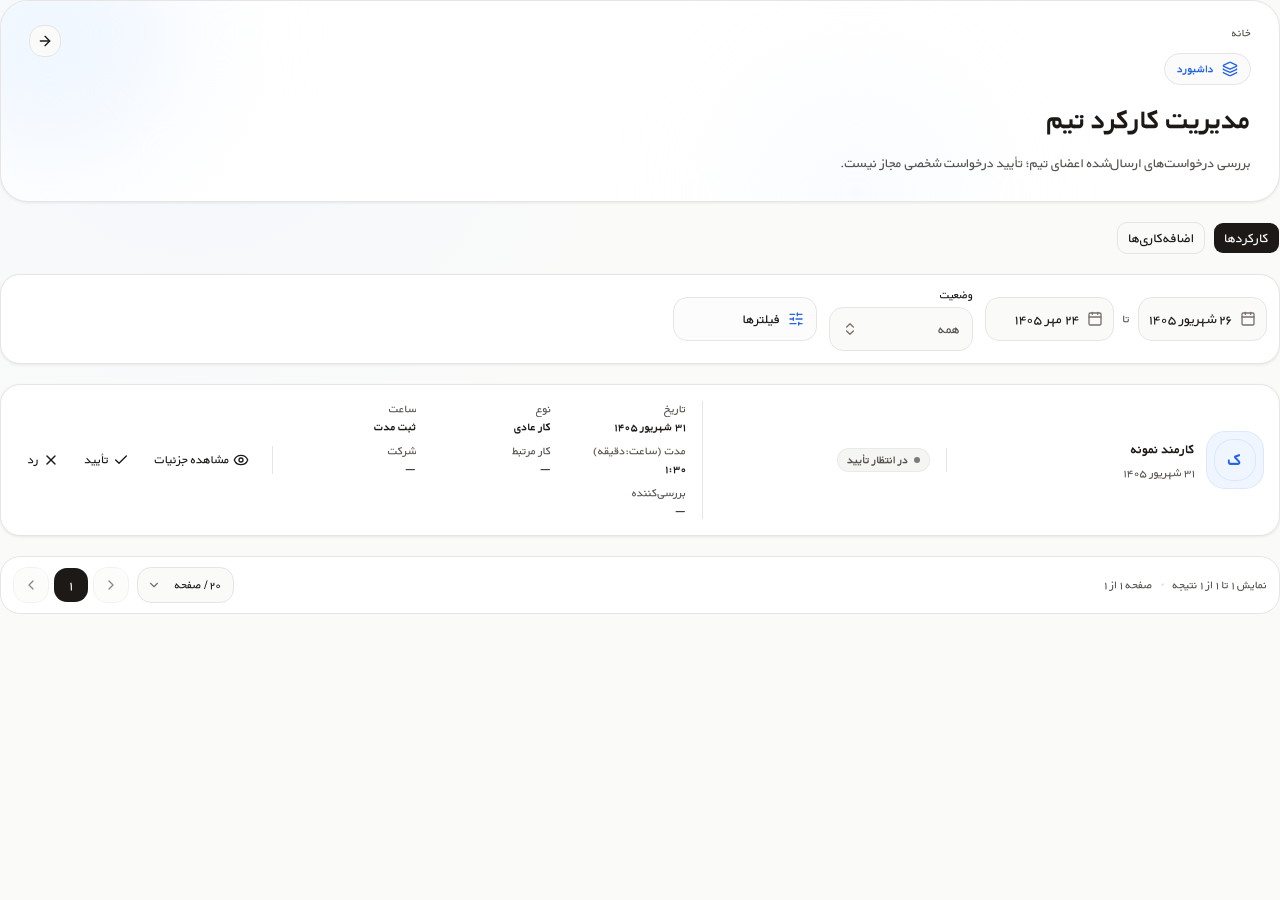
Test: Timesheet screens › requires rejection reason and refreshes after concurrent decision
Click the button "رد" at (43,460), box [17,446,70,474]
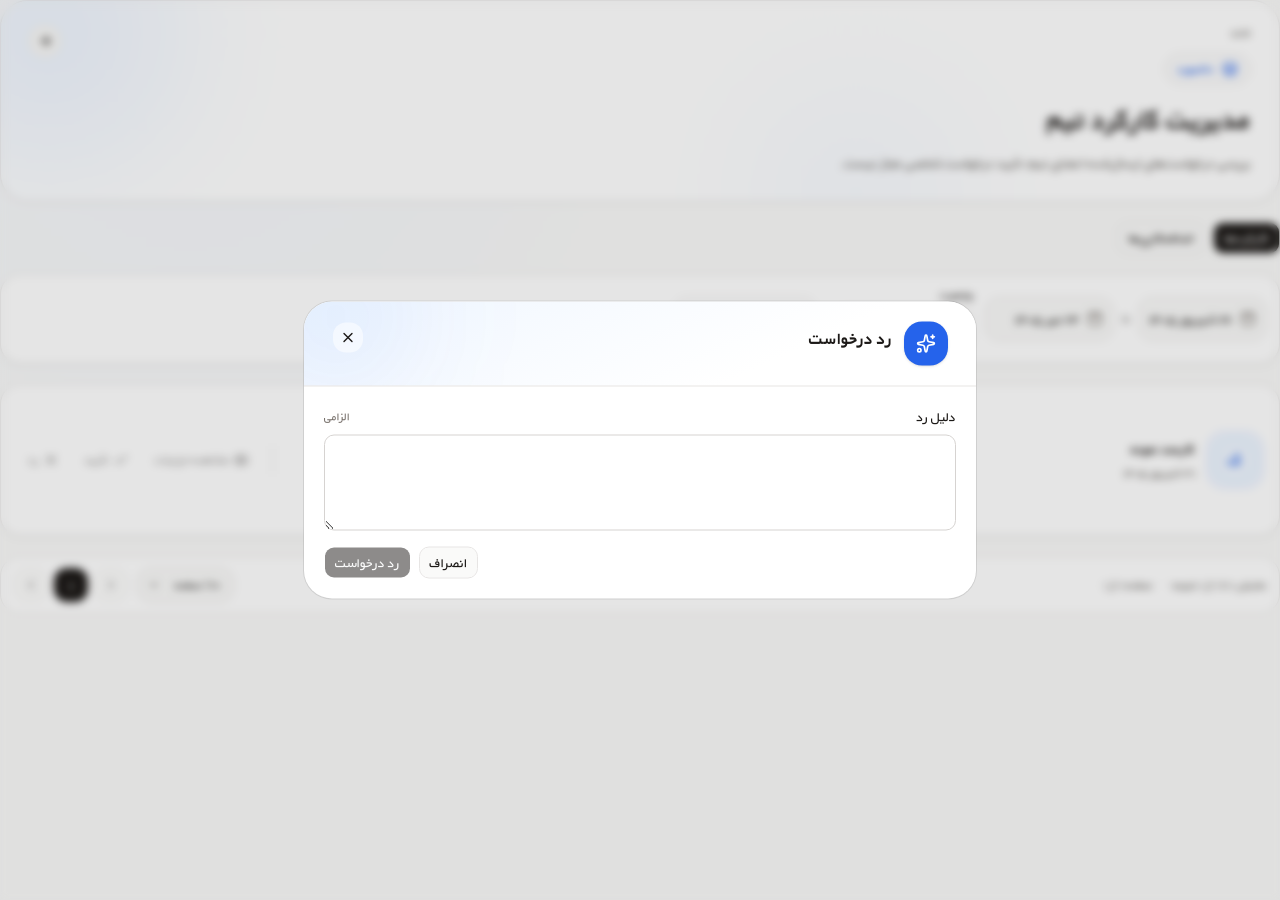
Check: the button "رد درخواست" is disabled, box [324,546,411,578]
Type "نیاز به اصلاح" into the text box labelled "دلیل رد" at (640,482), box [324,434,956,530]
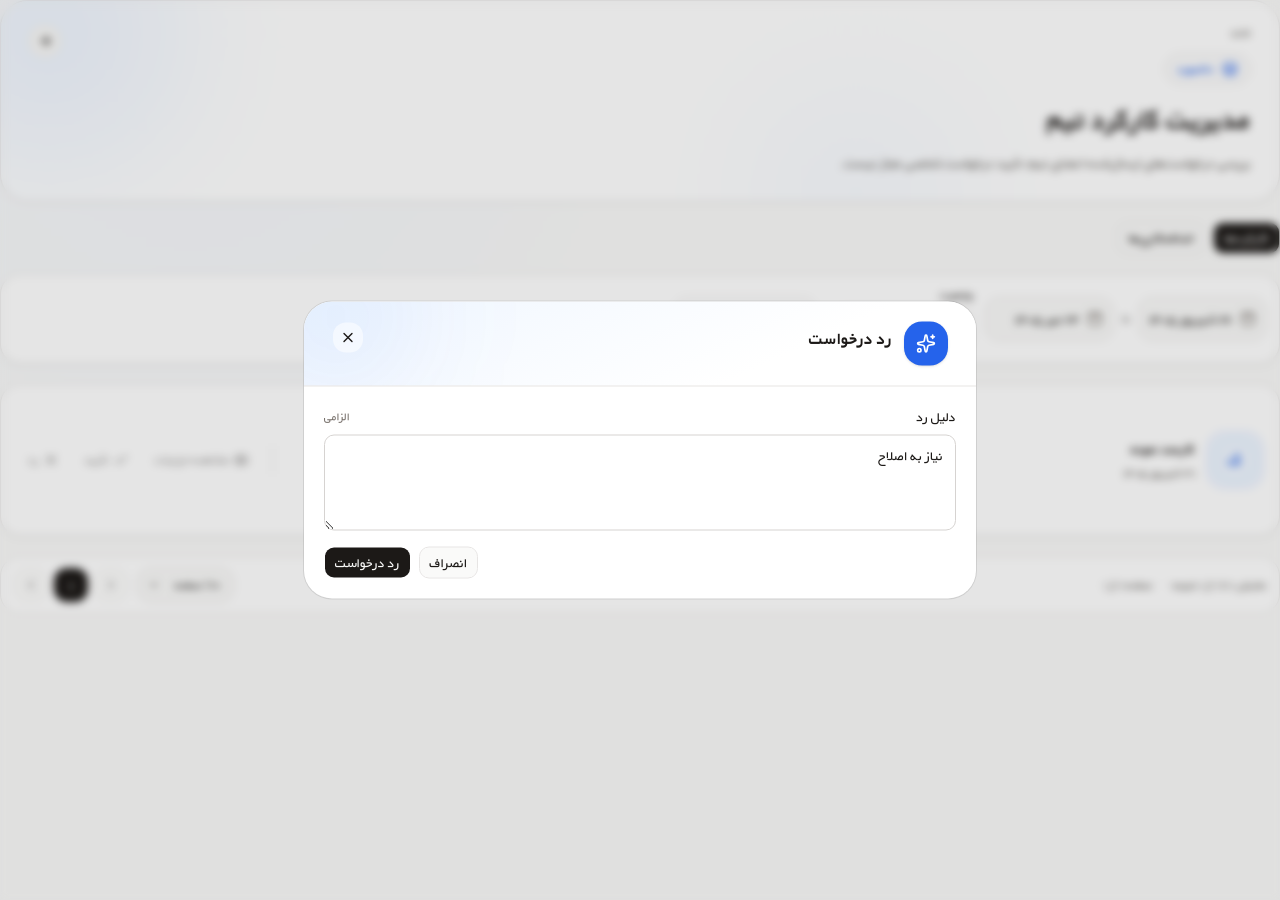
Click the button "رد درخواست" at (367,562), box [324,546,411,578]
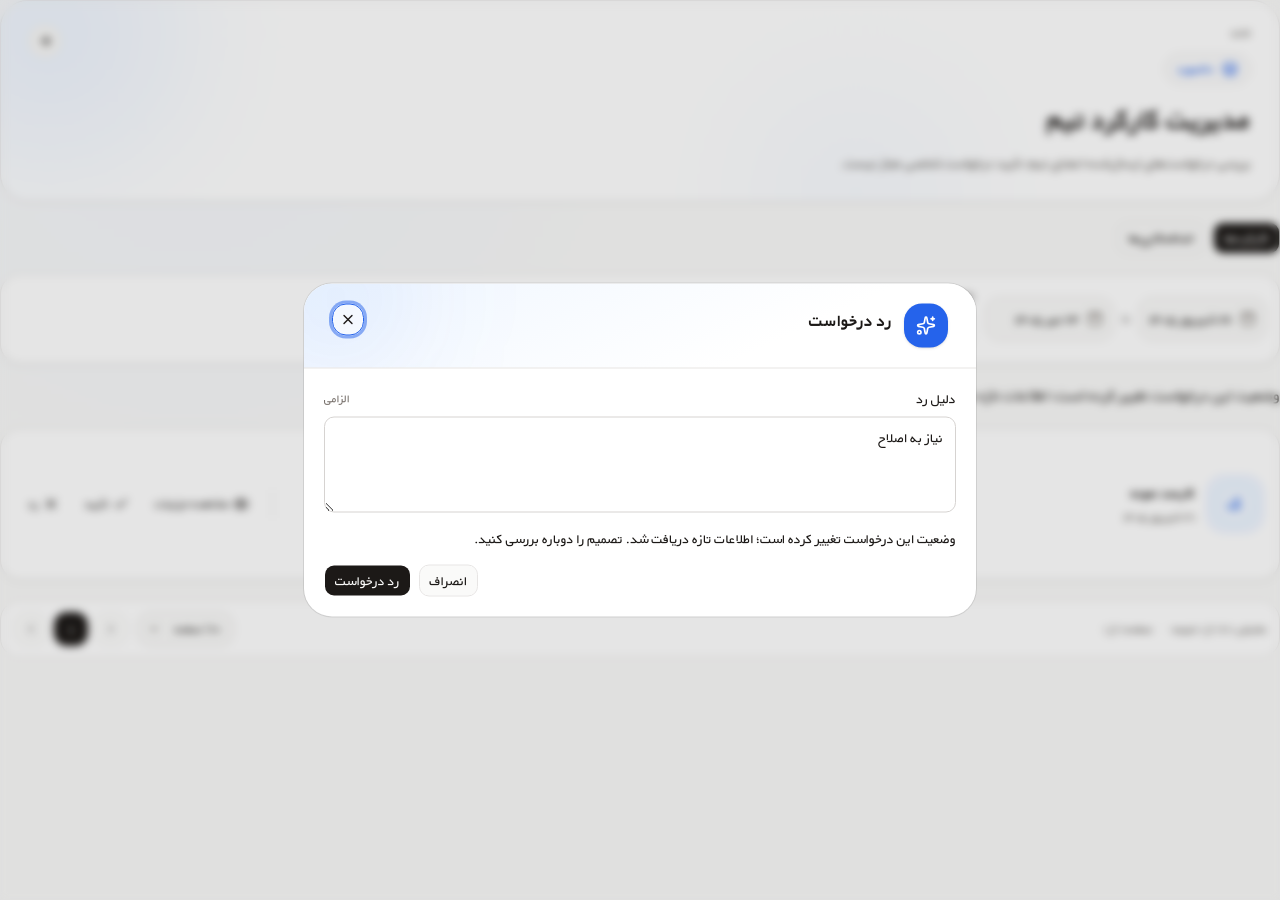
Check: the text "وضعیت این درخواست تغییر کرده" below "مدیریت کارکرد تیم" is shown, box [729,384,1279,407]
